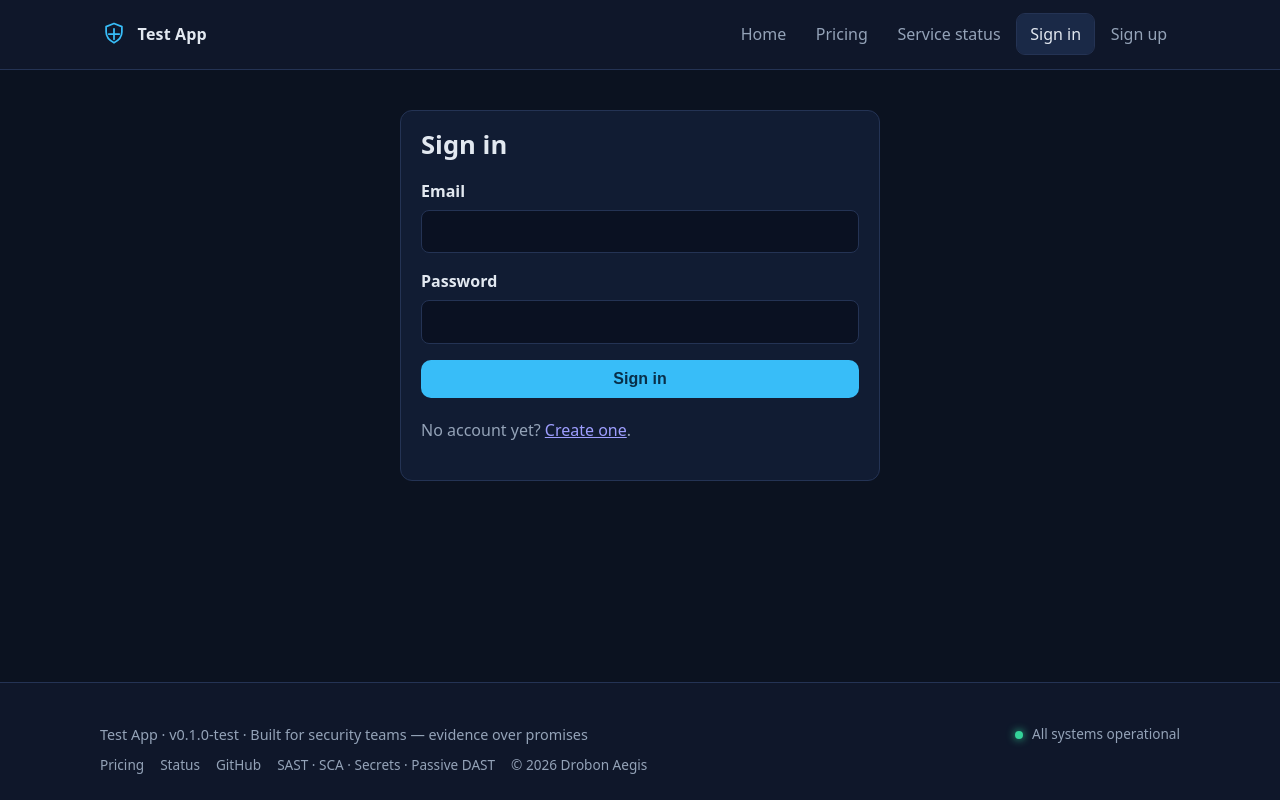
Test: login page › successful sign-in lands on the account page
In the field labelled "Email": (640, 232) [421,210,859,253], type "user@example.test"
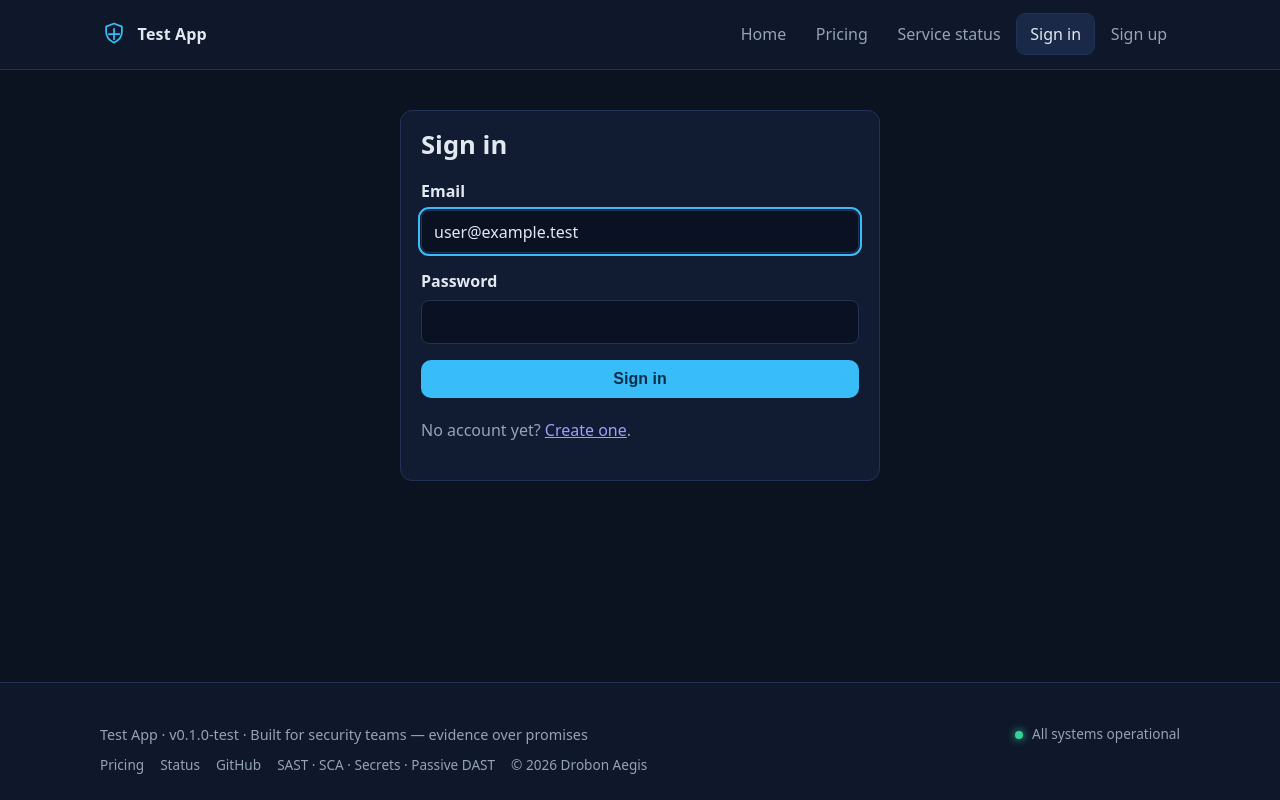
In the password field labelled "Password": (640, 322) [421,300,859,344], type "correct-pw-test"
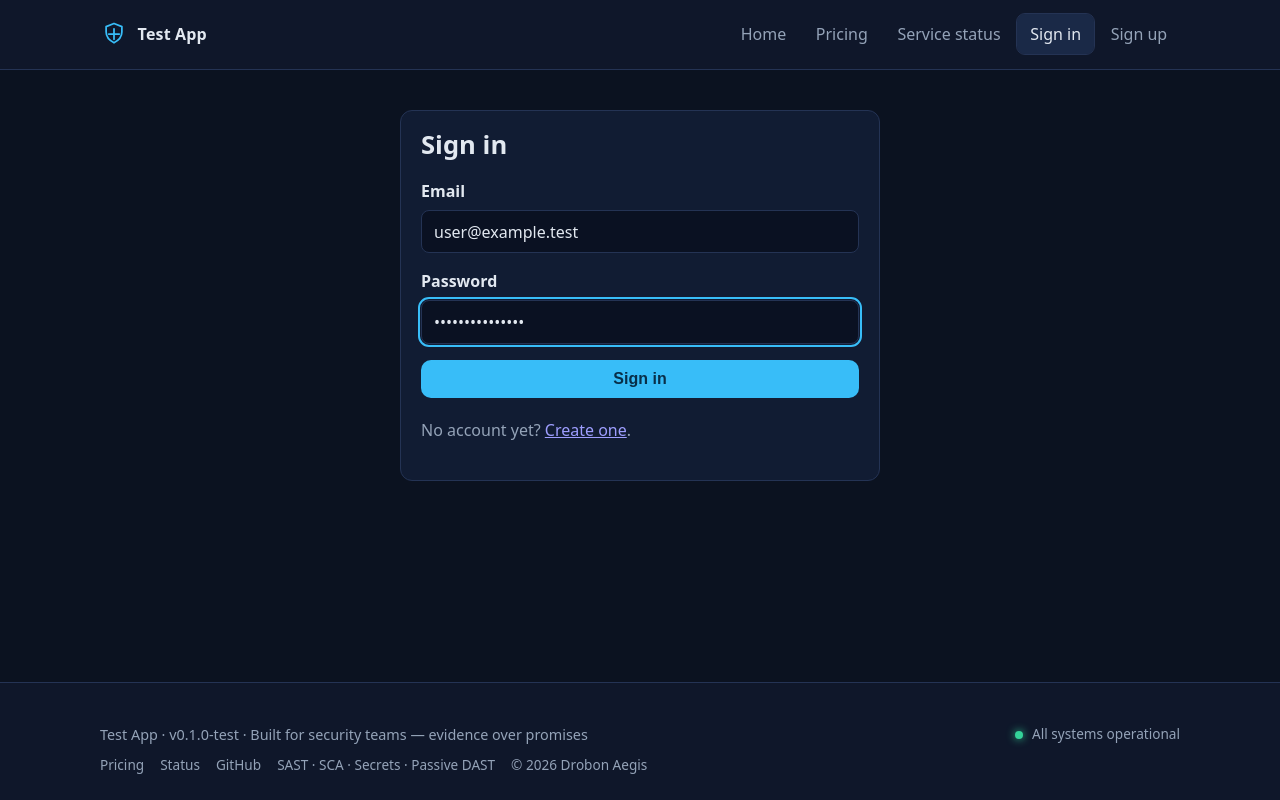
Click the button "Sign in": (640, 379) [421,360,859,398]
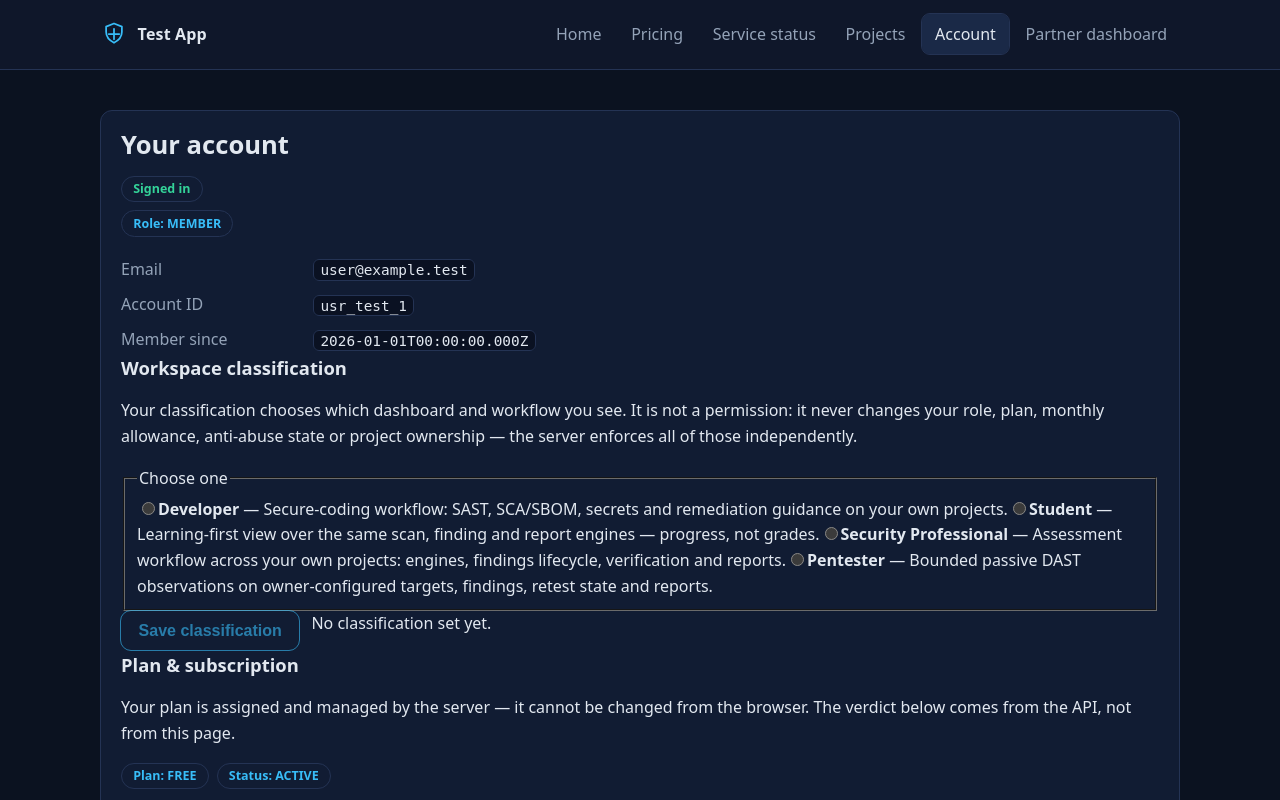
expect the heading "Your account" is shown: met, box [121,127,289,162]
expect the text "user@example.test" is shown: met, box [313,259,475,281]
